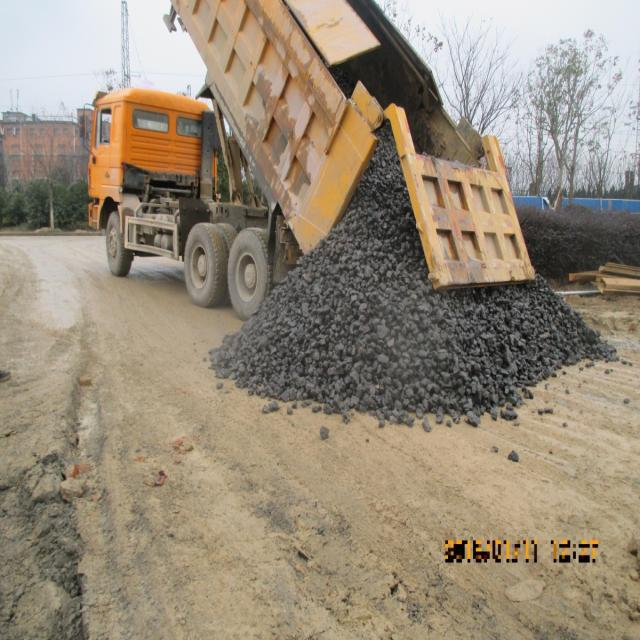truck: (80, 0, 536, 321)
